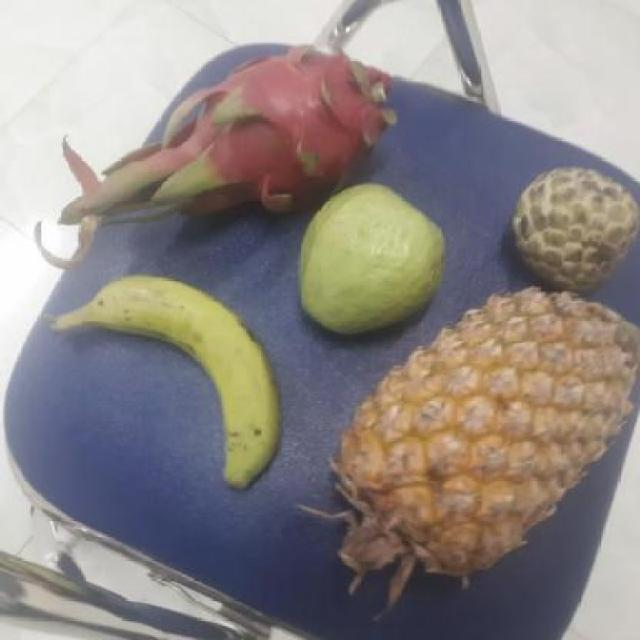banana: (66, 277, 277, 481)
dragon fruit: (193, 42, 390, 216)
guava: (292, 187, 449, 333)
pineapple: (327, 296, 636, 575)
sugar apple: (506, 170, 639, 293)
